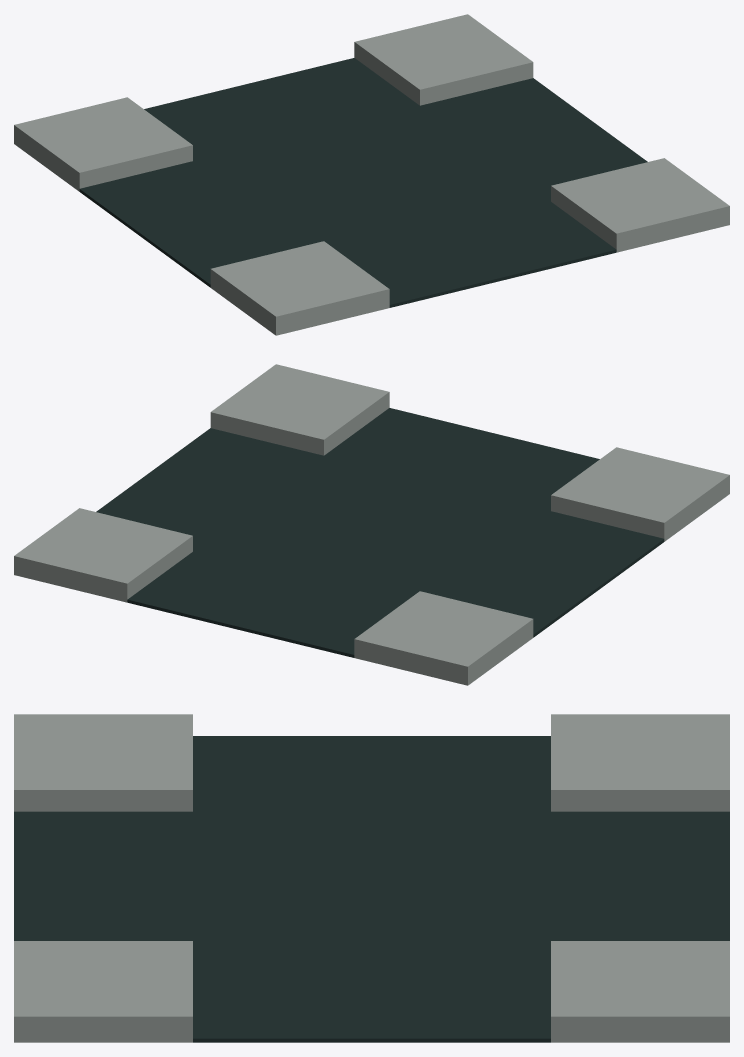
The model's file is Road_Crossroad.fbx.
The picture shows the model from 3 angles, top to bottom: view 1: azimuth 30°, elevation 25°; view 2: azimuth 150°, elevation 25°; view 3: azimuth 270°, elevation 25°; orthographic projection. The views are drawn at different scales.
Visible parts, largest first — view 1: Road_Crossroad; view 2: Road_Crossroad; view 3: Road_Crossroad.
Boxes of the visible parts, x1,y1,x2,y2 form: Road_Crossroad: (14, 14, 729, 335); Road_Crossroad: (14, 364, 729, 685); Road_Crossroad: (14, 714, 729, 1042).
Bounding box in the file's own units: 500 × 20.03 × 500.
